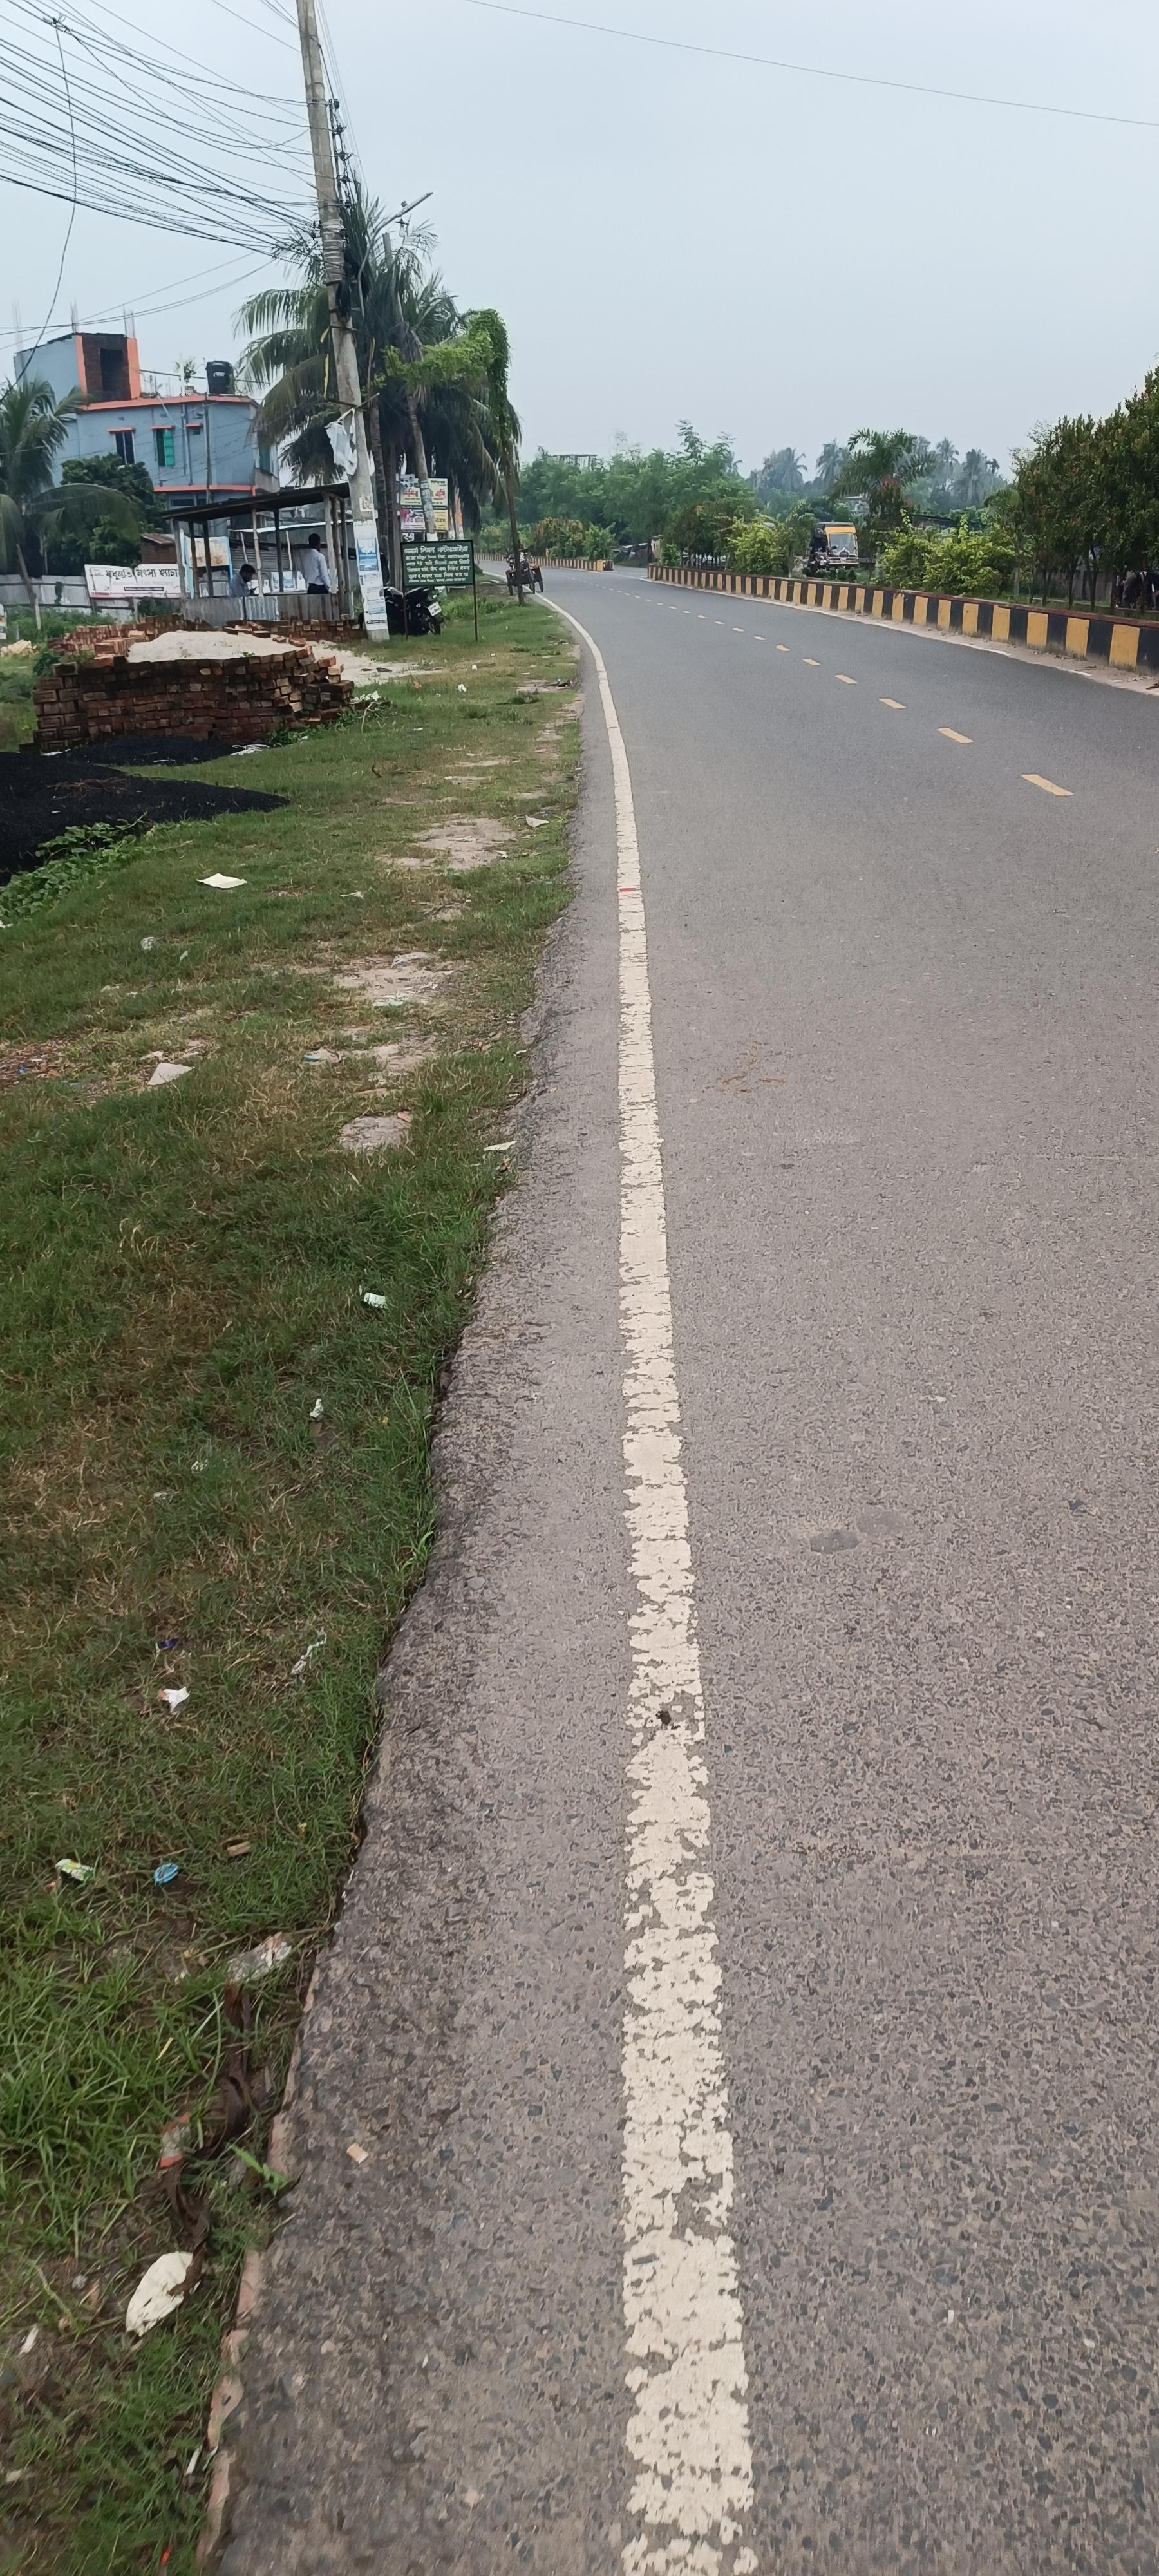Construction-barrier: (864, 560, 1159, 706)
Downstairs: (383, 583, 440, 636)
Garbage-bin: (302, 532, 332, 593), (238, 563, 258, 595)
Light-pole: (284, 39, 432, 611)
Traffic-cone: (809, 521, 860, 577)
